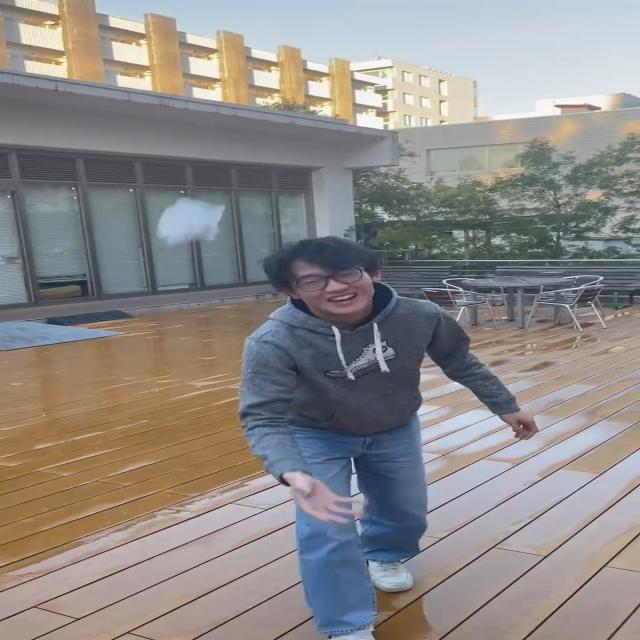paper: (154, 196, 227, 244)
